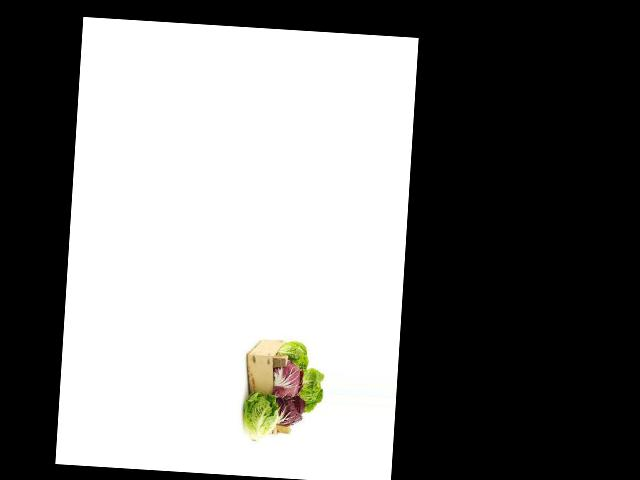lettuce: (226, 314, 329, 425)
